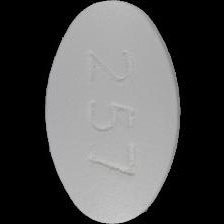50090-1531: (0, 0, 224, 224)
